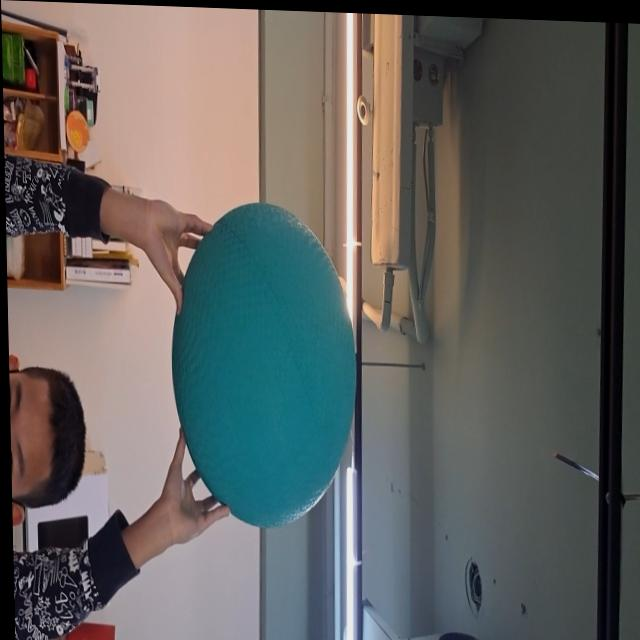ALGAE: (168, 201, 358, 533)
